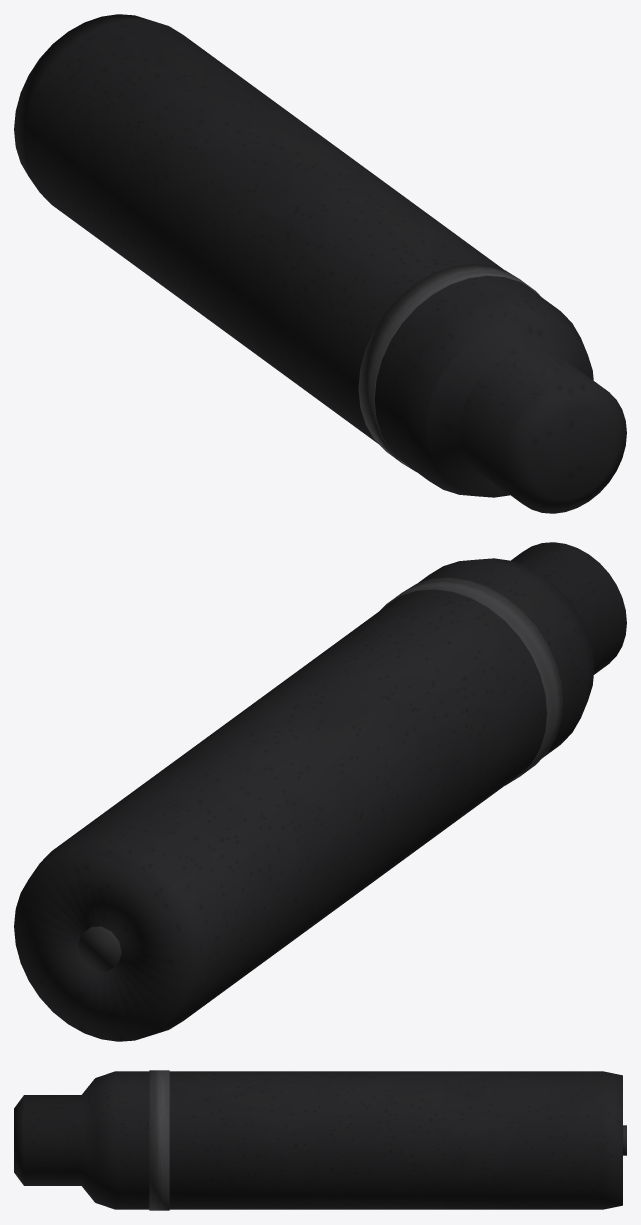
File: suppressor_rifle.glb
3 renders of one model, top to bottom at view 1: azimuth 30°, elevation 25°; view 2: azimuth 150°, elevation 25°; view 3: azimuth 270°, elevation 25°, orthographic. The views are drawn at different scales.
Visible parts, largest first — view 1: can, band; view 2: can, band, bore; view 3: can, band.
Boxes of the visible parts, <box> form: can: <box>14,14,626,513</box>; band: <box>358,264,540,471</box>; can: <box>14,542,626,1041</box>; band: <box>380,577,562,785</box>; bore: <box>78,926,121,971</box>; can: <box>14,1071,622,1209</box>; band: <box>149,1070,169,1210</box>.
Bounding box in the file's own units: 0.0416 × 0.0416 × 0.1812.
Materials: 3 (2 with a texture image).
